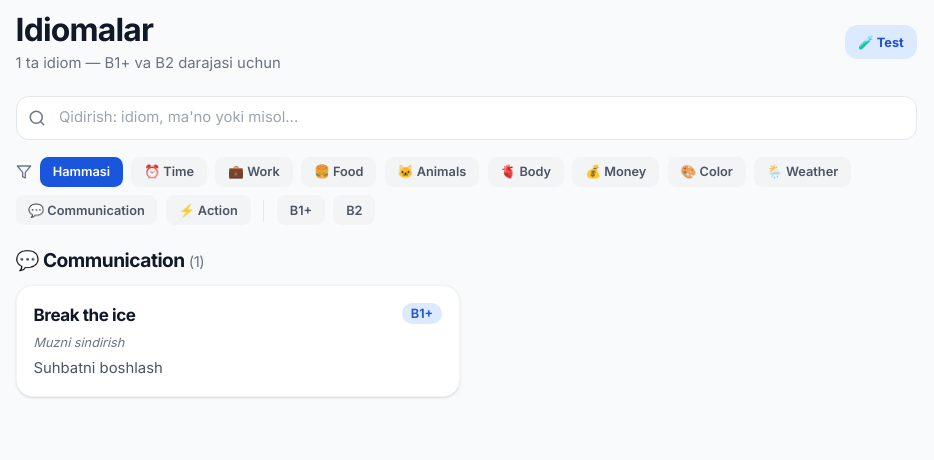
Test: Idioms › filters by category
# Click on 'food' category — 'Break the ice' is 'communication', so it should disappear
Click the button "🍔 food": (339, 172) 301,157 -> 376,187
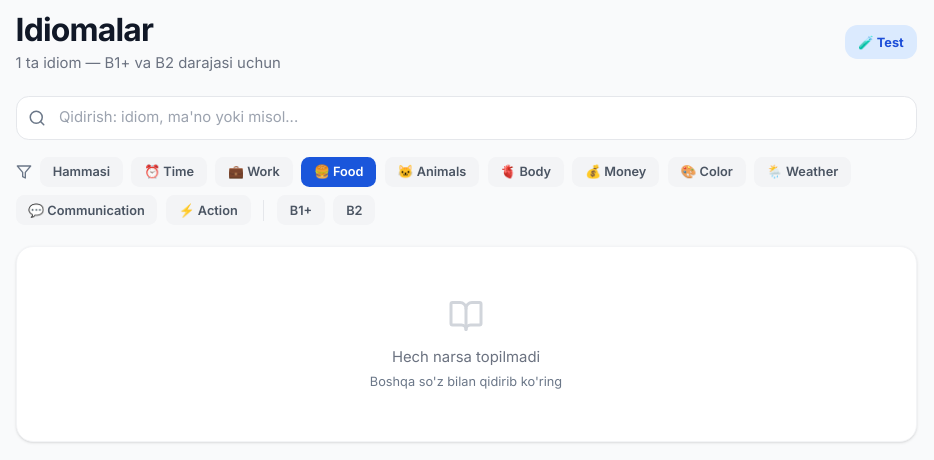
Expected: the button "Break the ice" is gone
